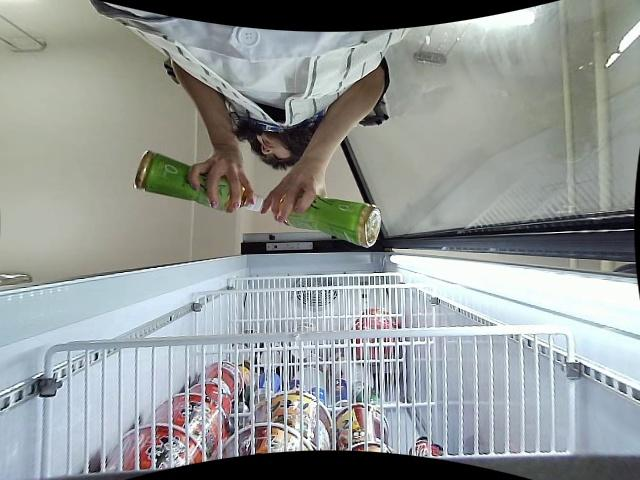00_hand: (187, 150, 256, 215), (261, 165, 328, 228)
19_17cha: (258, 185, 381, 246), (134, 149, 255, 211)
